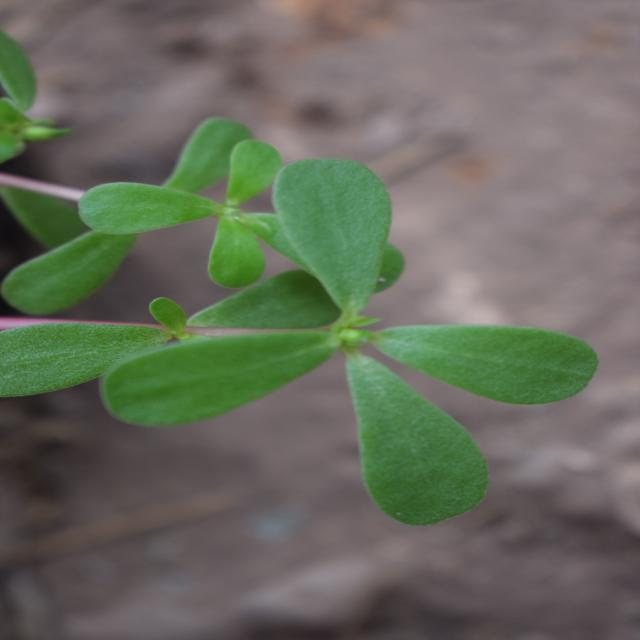purslane: (112, 0, 535, 583)
